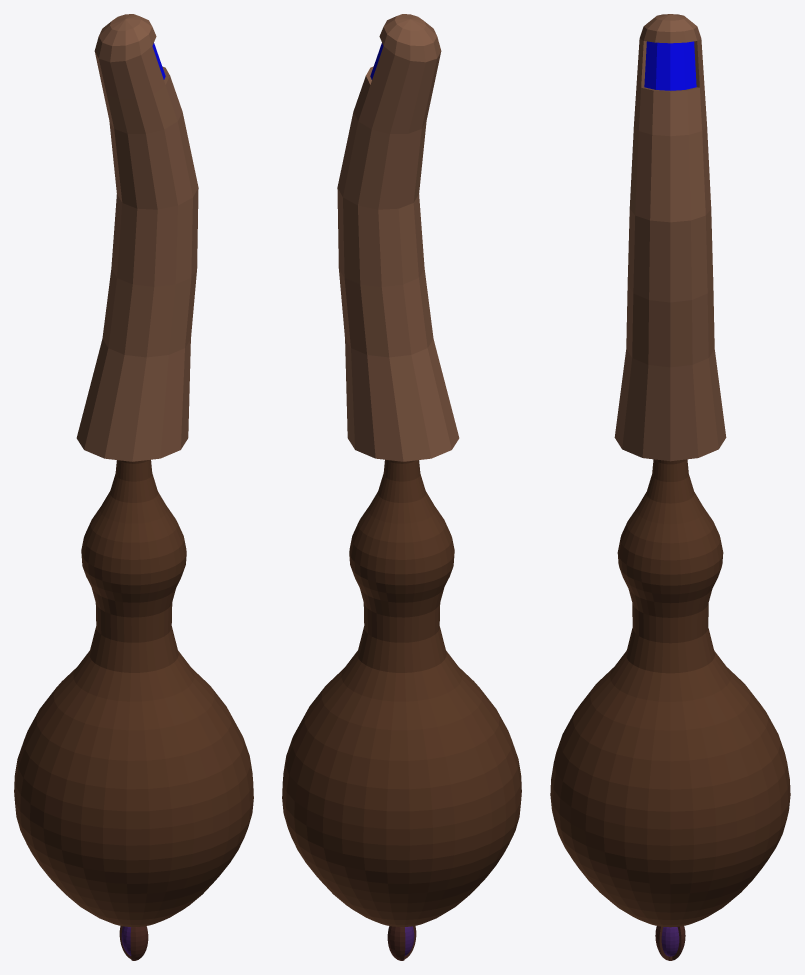
File: Wand 647.glb
The picture shows the model from 3 angles, left to right: view 1: azimuth 30°, elevation 25°; view 2: azimuth 150°, elevation 25°; view 3: azimuth 270°, elevation 25°; orthographic projection.
Parts seen in each view (by area): view 1: GeneratedWand; view 2: GeneratedWand; view 3: GeneratedWand.
Part boxes in pixels (x1,y1,x2,y2): GeneratedWand: (14, 14, 253, 960); GeneratedWand: (282, 14, 521, 960); GeneratedWand: (550, 14, 790, 960).
Bounding box in the file's own units: 0.123 × 0.5323 × 0.123.
